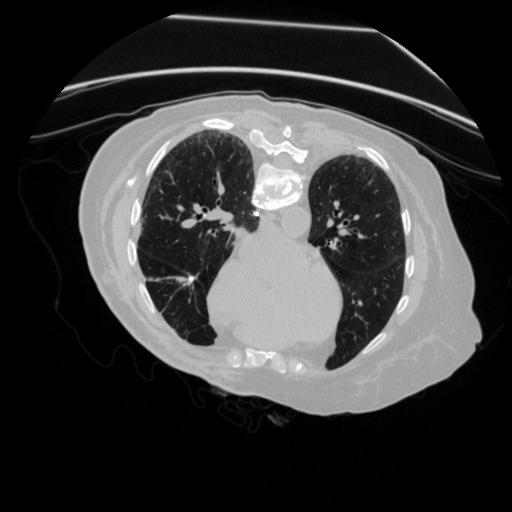nodule: (250, 210, 261, 221)
